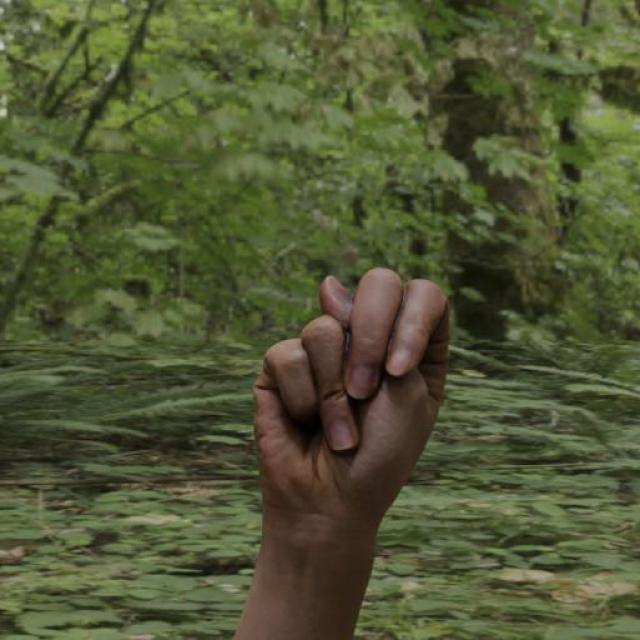N: (246, 264, 456, 535)
